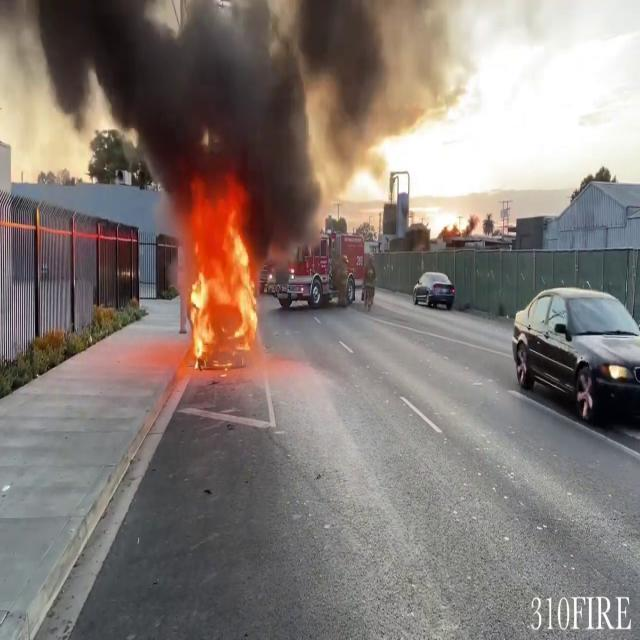Fire: (180, 180, 262, 360)
Smoke: (29, 0, 398, 217)
